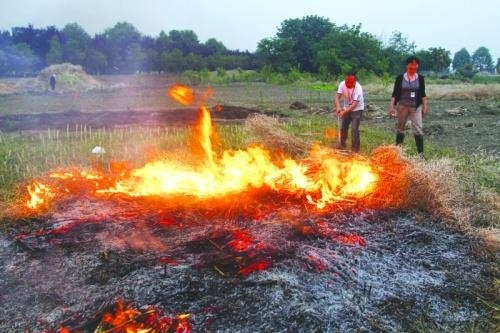fire: (174, 86, 221, 152)
